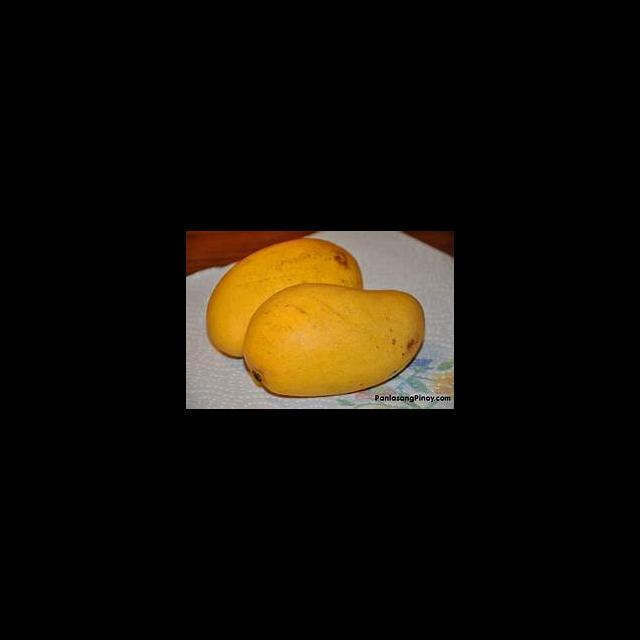mango: (244, 284, 424, 396), (206, 238, 362, 357)
